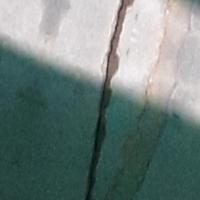crack: (64, 0, 158, 199)
